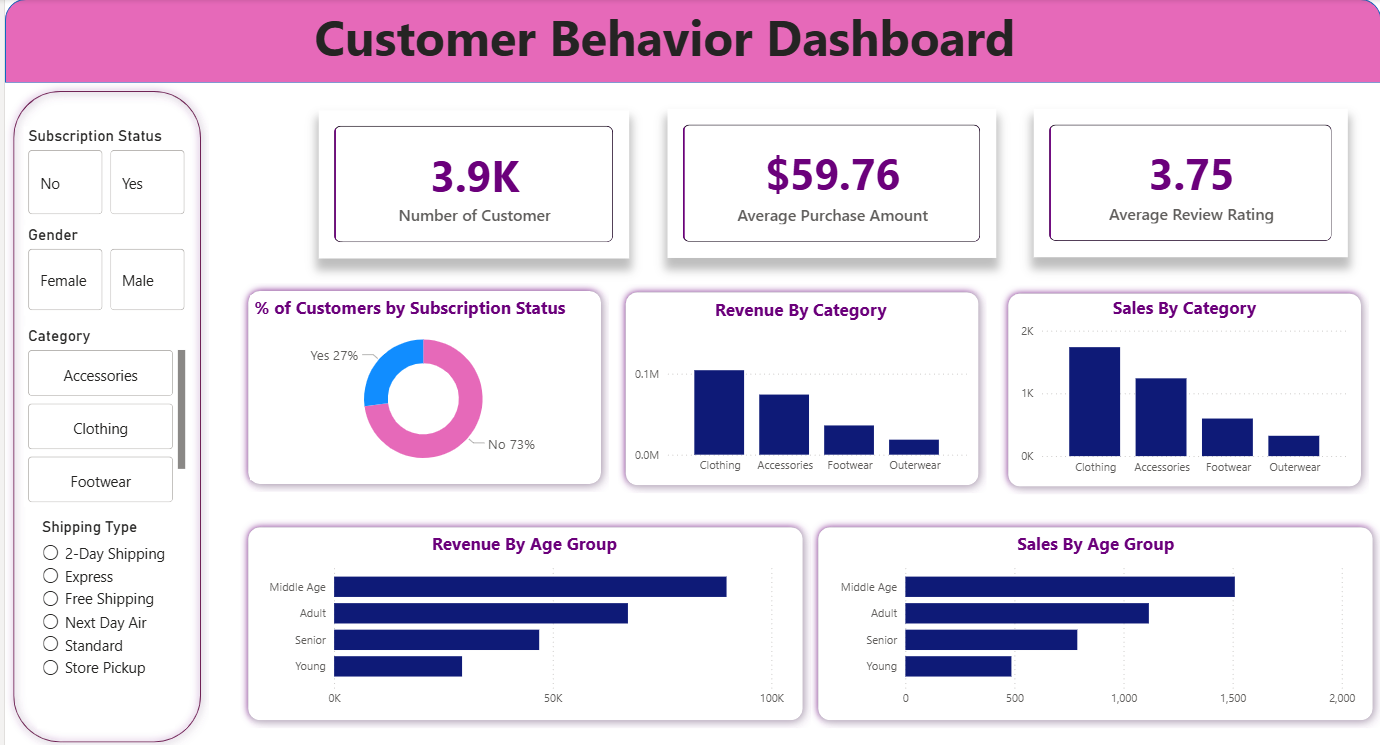

The page's visual inventory and layout, read from the dashboard file:
{"tool":"powerbi","page":{"name":"Page 1","canvas":[1500,820],"ordinal":0},"visuals":[{"type":"cardVisual","fields":{"Data":["public customer.Number of Customer"]},"box":[342.6,121.3,338.3,161.3],"z":0},{"type":"cardVisual","fields":{"Data":["public customer.Average Purchase Amount"]},"box":[722.3,119.9,358.3,162.7],"z":1000},{"type":"cardVisual","fields":{"Data":["public customer.Average Review Rating"]},"box":[1122,119.9,342.6,161.3],"z":2000},{"type":"shape","box":[0,0,1500.3,91.4],"z":3000},{"type":"textbox","box":[20,0,1294.7,81.4],"z":4000},{"type":"shape","box":[255.5,309.8,402.6,228.4],"z":5000},{"type":"donutChart","title":"% of Customers  by Subscription Status","fields":{"Category":["public customer.Subscription Status"],"Y":["CountNonNull(public customer.Customer ID)"]},"box":[266.9,322.6,378.3,201.3],"z":6000},{"type":"shape","box":[0,91.4,222.7,728],"z":9000},{"type":"advancedSlicerVisual","fields":{"Values":["public customer.Subscription Status"]},"box":[20,138.5,181.3,101.4],"z":10000},{"type":"shape","box":[668.1,311.2,402.6,228.4],"z":11000},{"type":"shape","box":[1084.9,312.6,402.6,228.4],"z":12000},{"type":"clusteredColumnChart","title":"Revenue By Category","fields":{"Category":["public customer.Category"],"Y":["Sum(public customer.Purchase Amount (USD))"]},"box":[680.9,325.5,372.6,201.3],"z":12001},{"type":"clusteredColumnChart","title":"Sales By Category","fields":{"Category":["public customer.Category"],"Y":["CountNonNull(public customer.Customer ID)"]},"box":[1102,322.6,366.9,205.6],"z":12002},{"type":"advancedSlicerVisual","fields":{"Values":["public customer.Gender"]},"box":[20,247,181.3,98.5],"z":12003},{"type":"advancedSlicerVisual","fields":{"Values":["public customer.Category"]},"box":[20,356.9,181.3,197],"z":12004},{"type":"listSlicer","fields":{"Values":["public customer.Shipping Type"]},"box":[35.7,565.3,149.9,229.8],"z":12005},{"type":"shape","box":[255.5,566.7,622.4,228.4],"z":12007},{"type":"clusteredBarChart","title":"Revenue By Age Group","fields":{"Category":["public customer.Age Group"],"Y":["Sum(public customer.Purchase Amount (USD))"]},"box":[278.4,581,576.7,199.8],"z":12008},{"type":"shape","box":[877.9,566.7,622.4,228.4],"z":12009},{"type":"clusteredBarChart","title":"Sales By Age Group","fields":{"Category":["public customer.Age Group"],"Y":["CountNonNull(public customer.Customer ID)"]},"box":[900.7,581,576.7,199.8],"z":12010}]}

Visuals, with their boxes in screenshot pixels (x1, y1, x2, y2), scaled from the page's 1500x820 canvas onto the 1380x745 screenshot:
cardVisual - public customer.Number of Customer: BBox(315, 110, 626, 257)
cardVisual - public customer.Average Purchase Amount: BBox(665, 109, 994, 257)
cardVisual - public customer.Average Review Rating: BBox(1032, 109, 1347, 255)
shape: BBox(0, 0, 1379, 83)
textbox: BBox(18, 0, 1210, 74)
shape: BBox(235, 281, 605, 489)
"% of Customers  by Subscription Status" donutChart: BBox(246, 293, 594, 476)
shape: BBox(0, 83, 205, 744)
advancedSlicerVisual - public customer.Subscription Status: BBox(18, 126, 185, 218)
shape: BBox(615, 283, 985, 490)
shape: BBox(998, 284, 1368, 492)
"Revenue By Category" clusteredColumnChart: BBox(626, 296, 969, 479)
"Sales By Category" clusteredColumnChart: BBox(1014, 293, 1351, 480)
advancedSlicerVisual - public customer.Gender: BBox(18, 224, 185, 314)
advancedSlicerVisual - public customer.Category: BBox(18, 324, 185, 503)
listSlicer - public customer.Shipping Type: BBox(33, 514, 171, 722)
shape: BBox(235, 515, 808, 722)
"Revenue By Age Group" clusteredBarChart: BBox(256, 528, 787, 709)
shape: BBox(808, 515, 1379, 722)
"Sales By Age Group" clusteredBarChart: BBox(829, 528, 1359, 709)
